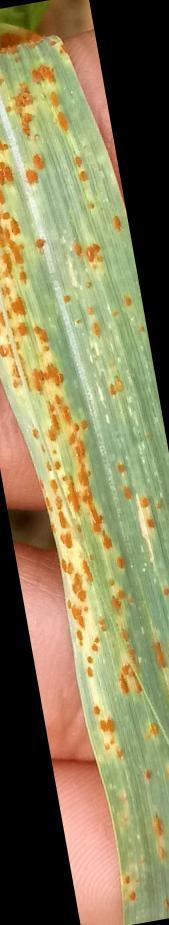Wheat: (5, 54, 153, 421), (46, 436, 167, 812)
